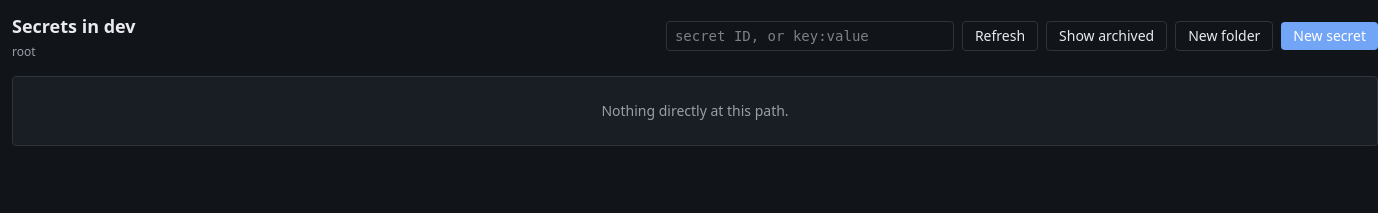
Test case: SecretsCatalog smart search composition › shows the service's tag-filter rejection inline instead of the generic error notice
In the search field with id "catalog-filter": (810, 36) x1=666 y1=21 x2=954 y2=51, type "owner:payments owner:billing"
Wait 300 ms
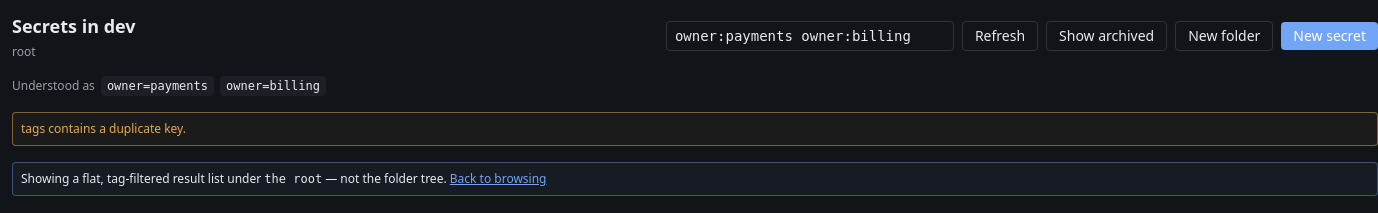
Now the text "tags contains a duplicate key." is shown, box x1=12 y1=112 x2=1377 y2=146
